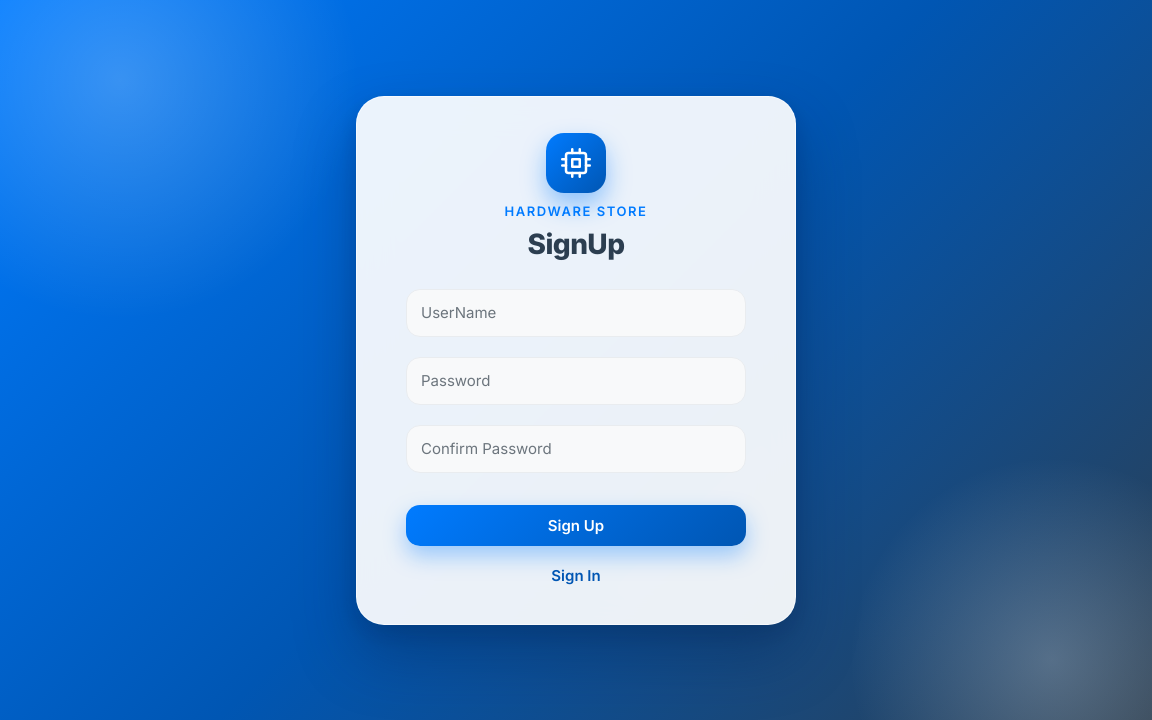
Test case: SignUp › ошибка при пустом Password
The image size is (1152, 720).
Type "user" into the field labelled "UserName" at (576, 312), box [406,288,746,336]
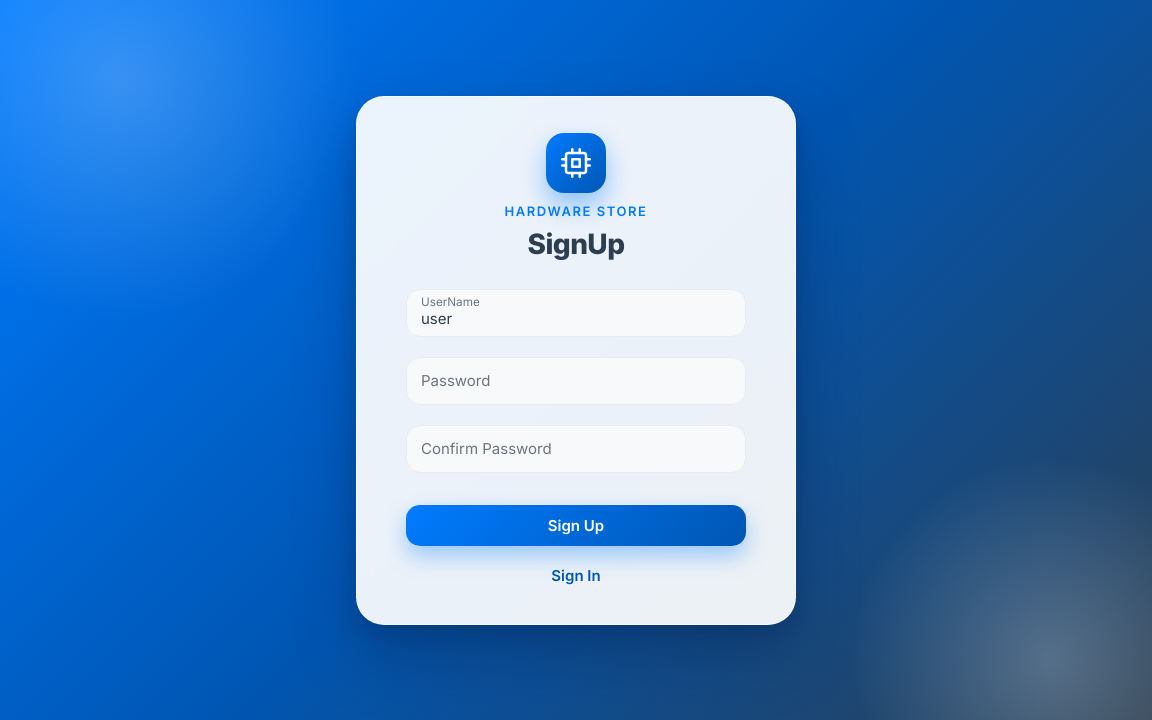
Click the button "Sign Up" at (576, 525), box [406,504,746,546]
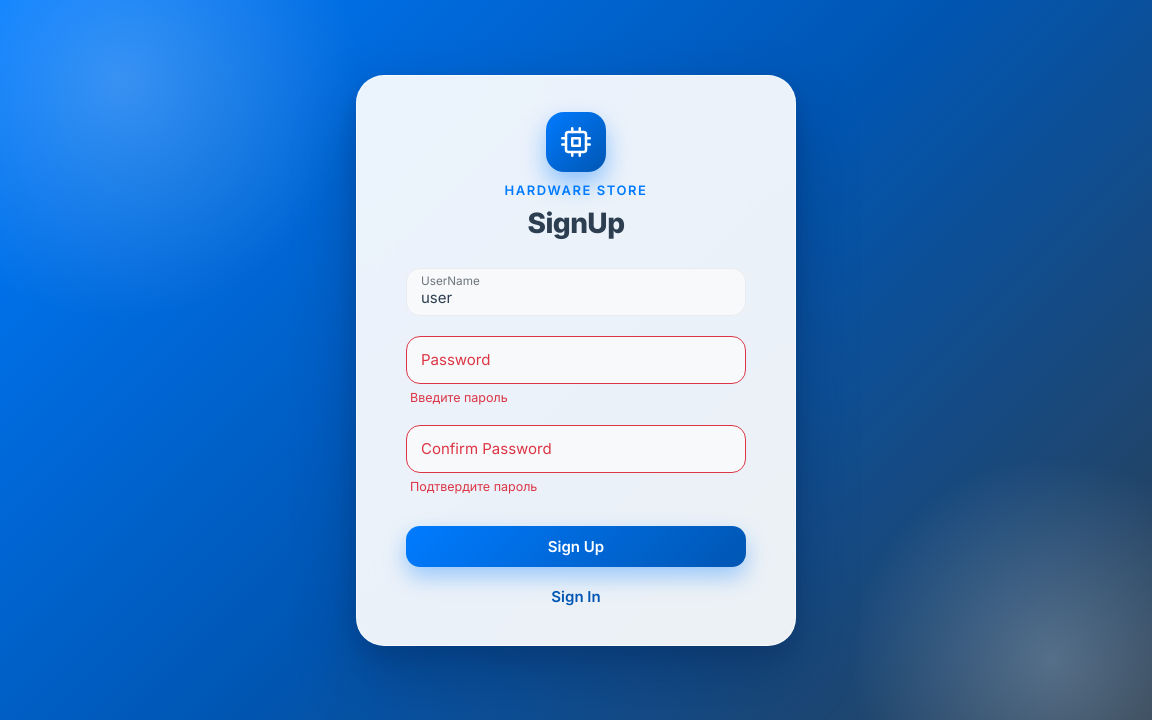
Expected: the text "Введите пароль" is shown, [410,390,508,404]
